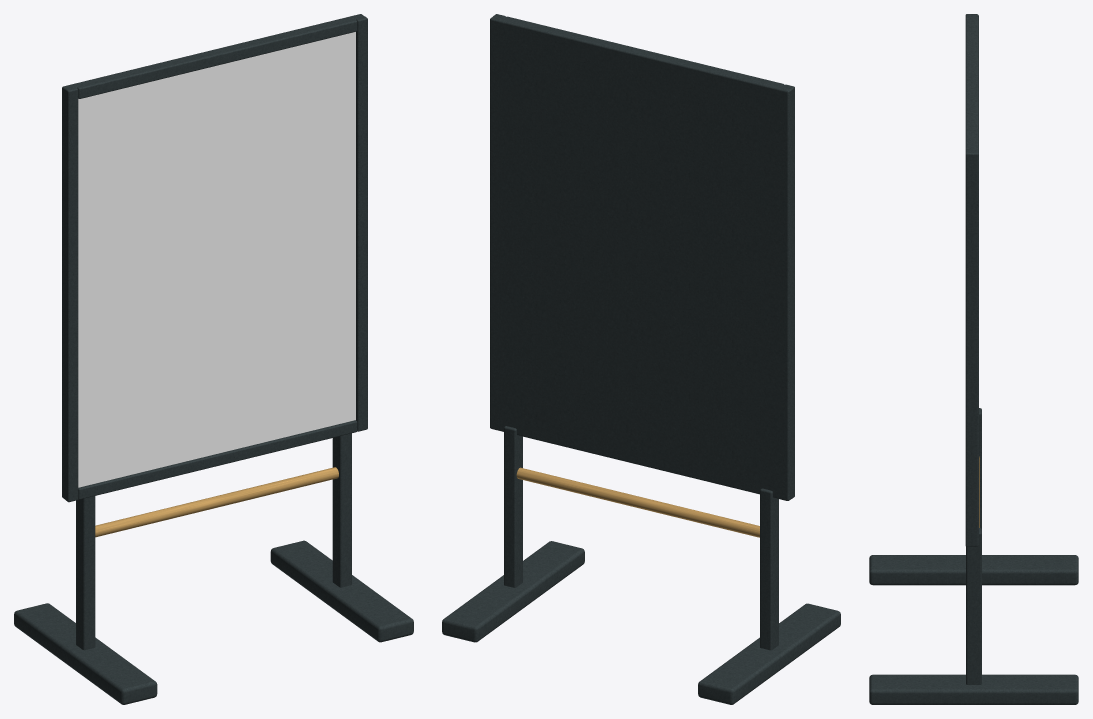
The model's file is preview.glb.
The picture shows the model from 3 angles, left to right: view 1: azimuth 30°, elevation 25°; view 2: azimuth 150°, elevation 25°; view 3: azimuth 270°, elevation 25°; orthographic projection. The views are drawn at different scales.
Parts seen in each view (by area): view 1: Pavement; view 2: Pavement; view 3: Pavement.
Boxes of the visible parts, x1,y1,x2,y2 form: Pavement: (14,14,413,704); Pavement: (442,14,840,704); Pavement: (869,14,1078,704).
Size of the model in its own units: 0.538 by 0.9925 by 0.34.
3 materials, 2 textured.
